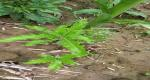osot: (0, 20, 113, 53), (21, 52, 85, 70)
